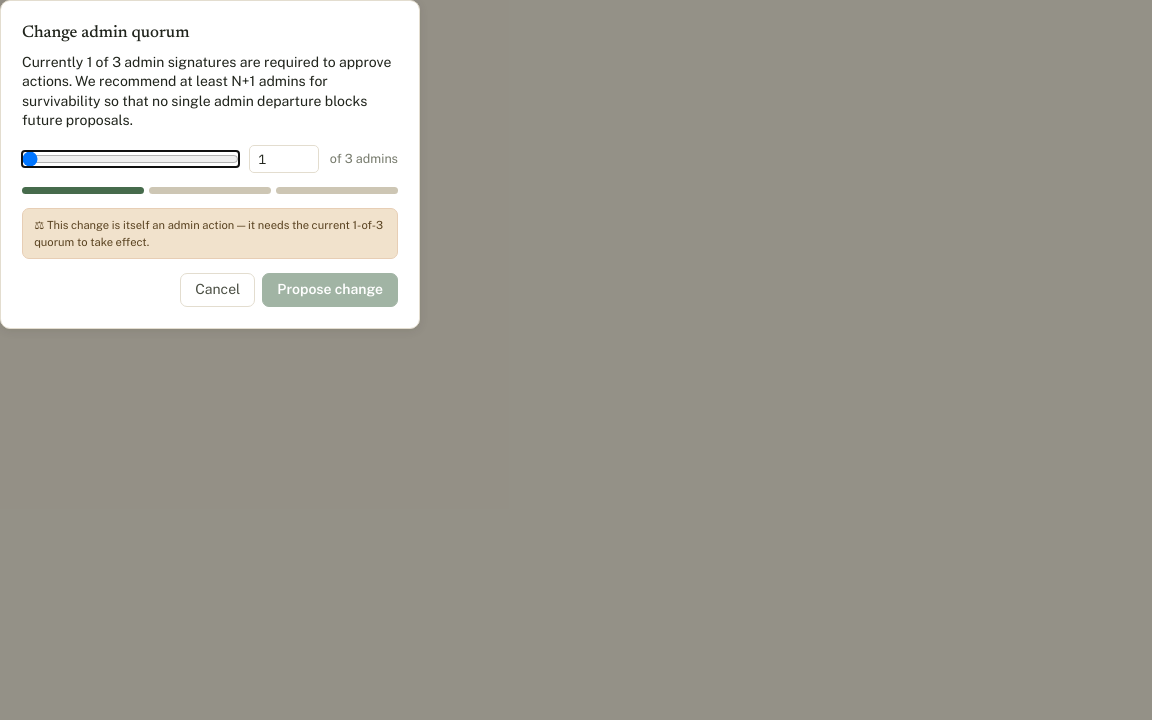
Test: ChangeQuorumDialog › slider_and_number_input_sync_bidirectionally
The image size is (1152, 720).
// Change slider → number input updates.
Set the slider named "Quorum slider" to "2": (130, 159) x1=22 y1=151 x2=239 y2=167
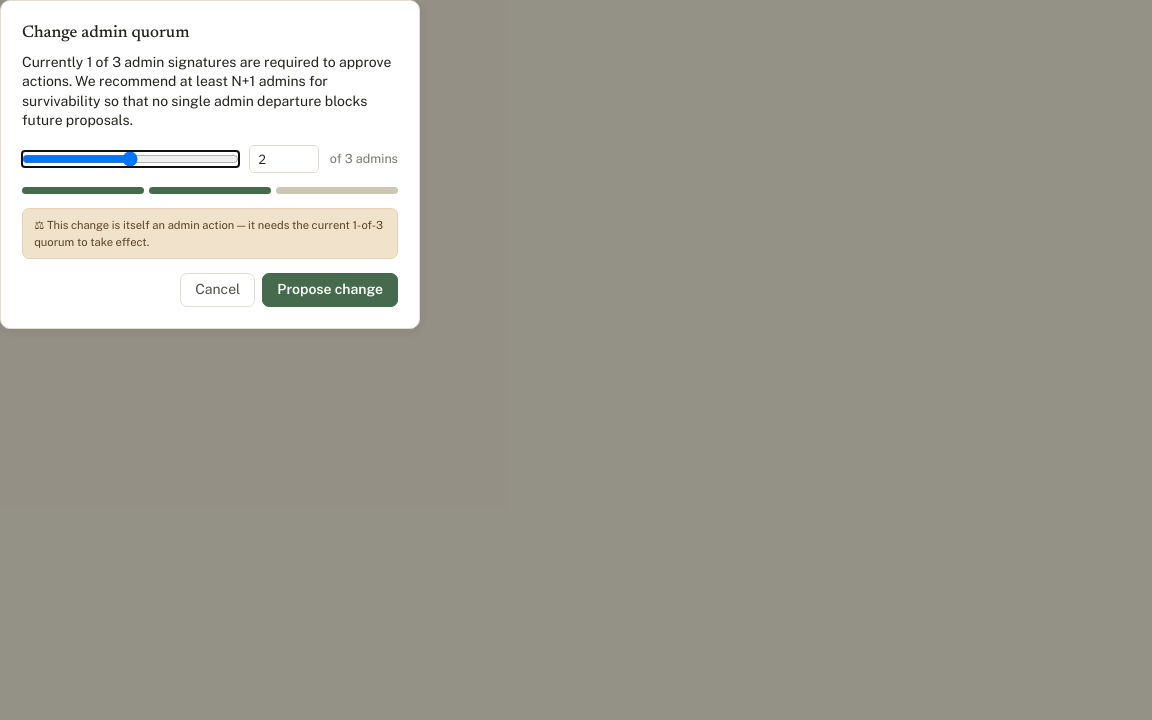
Result: the number field named "Quorum number" holds "2"
// Change number input → slider updates.
Replace the text in the number field named "Quorum number" with "3": (284, 159) x1=249 y1=145 x2=319 y2=173
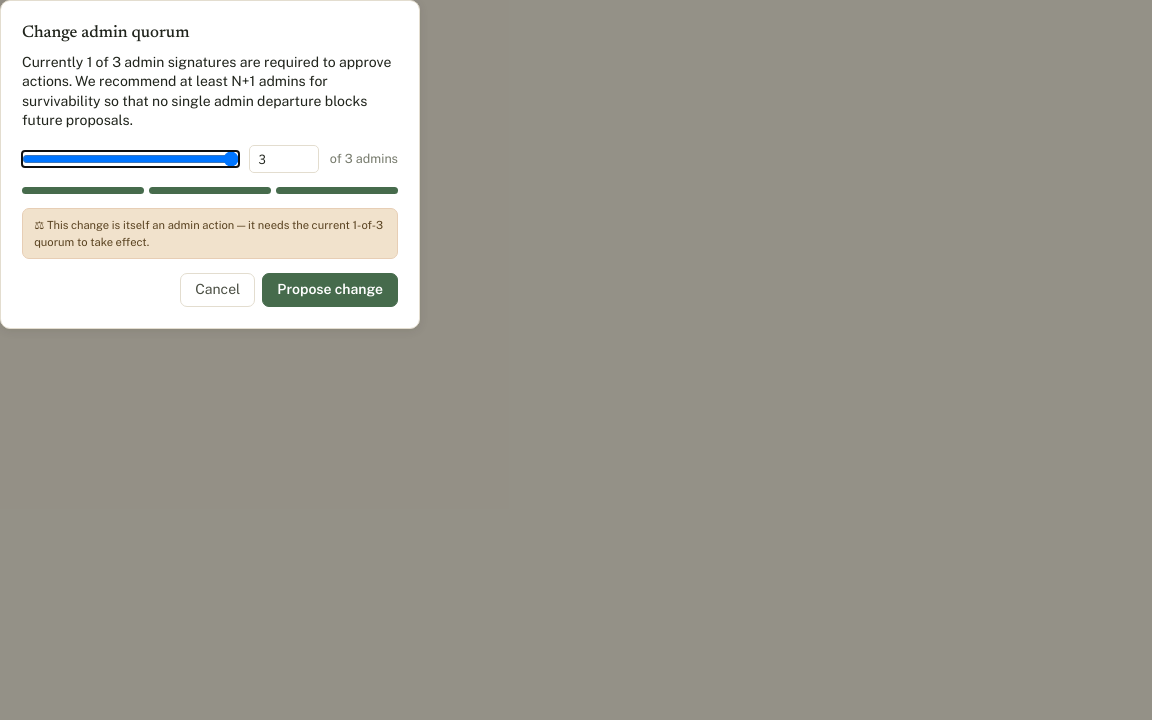
Result: the slider named "Quorum slider" holds "3" at x1=22 y1=151 x2=239 y2=167
